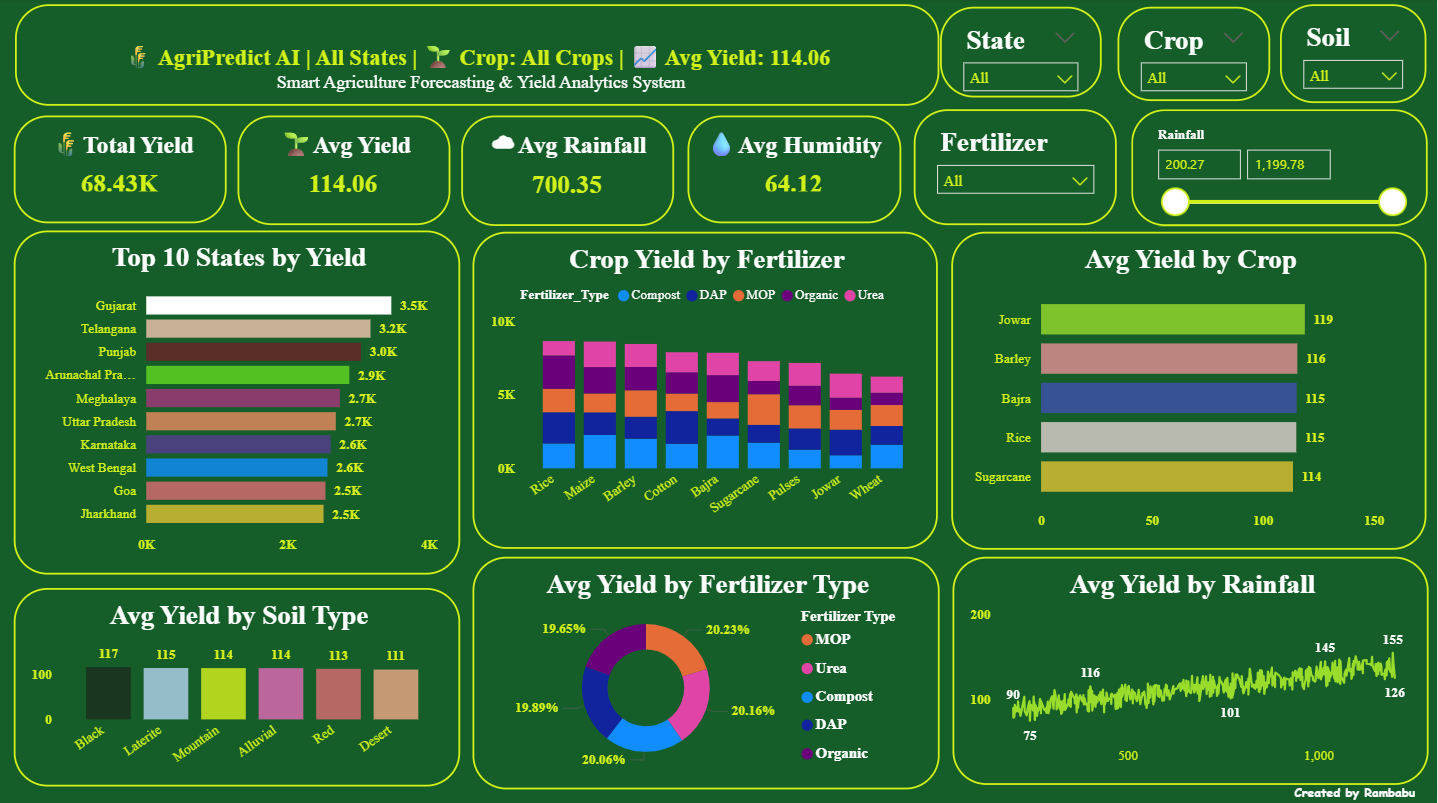

The page's visual inventory and layout, read from the dashboard file:
{"tool":"powerbi","page":{"name":"Page 1","canvas":[1280,720],"ordinal":0},"visuals":[{"type":"cardVisual","title":"🌾Total Yield","fields":{"Data":["crop_yield_india.Total Yield"]},"box":[12.3,104.3,189.4,96.1],"z":0},{"type":"cardVisual","title":"🌱Avg Yield","fields":{"Data":["crop_yield_india.Avg Yield"]},"box":[211.3,104.3,189.4,97.4],"z":1000},{"type":"cardVisual","title":"☁ Avg Rainfall","fields":{"Data":["crop_yield_india.Avg Rainfall"]},"box":[410.3,104.3,189.4,98.8],"z":2000},{"type":"cardVisual","title":"💧Avg Humidity","fields":{"Data":["crop_yield_india.Avg humidity"]},"box":[612,104.3,190.7,96.1],"z":3000},{"type":"slicer","fields":{"Values":["crop_yield_india.State"]},"box":[837.1,8.2,144.1,81],"z":4000},{"type":"slicer","fields":{"Values":["crop_yield_india.Crop"]},"box":[995.3,8.4,135.1,80.8],"z":5000},{"type":"slicer","fields":{"Values":["crop_yield_india.Soil_Type"]},"box":[1140.1,6,130.3,83.2],"z":6000},{"type":"slicer","fields":{"Values":["crop_yield_india.Fertilizer_Type"]},"box":[813.7,98.8,181.1,102.9],"z":7000},{"type":"slicer","fields":{"Values":["crop_yield_india.Rainfall"]},"box":[1007.4,96.5,264.2,106.2],"z":8000},{"type":"clusteredBarChart","title":"Top 10 States by Yield","fields":{"Category":["crop_yield_india.State"],"Y":["Sum(crop_yield_india.Yield)"]},"box":[12.3,207.2,397.9,306],"z":9000},{"type":"donutChart","title":"Avg Yield by Fertilizer Type","fields":{"Category":["crop_yield_india.Fertilizer_Type"],"Y":["crop_yield_india.Avg Yield"]},"box":[421.3,498.1,415.8,207.2],"z":10000},{"type":"columnChart","title":"Crop Yield by Fertilizer","fields":{"Category":["crop_yield_india.Crop"],"Series":["crop_yield_india.Fertilizer_Type"],"Y":["Sum(crop_yield_india.Yield)"]},"box":[421.3,208.6,414.4,282.7],"z":11000},{"type":"columnChart","title":"Avg Yield by Soil Type","fields":{"Category":["crop_yield_india.Soil_Type"],"Y":["crop_yield_india.Avg Yield"]},"box":[12.3,525.6,397.9,177],"z":12000},{"type":"textbox","box":[1147.7,692.4,122.4,27.8],"z":13000},{"type":"lineChart","fields":{"Category":["crop_yield_india.Rainfall"],"Y":["crop_yield_india.Avg Yield"]},"box":[848,498.1,424,203.1],"z":14000},{"type":"clusteredBarChart","fields":{"Y":["crop_yield_india.Avg Yield"],"Category":["crop_yield_india.Crop"]},"box":[846.9,208.7,423.5,283.5],"z":15000},{"type":"cardVisual","fields":{"Data":["crop_yield_india.Dynamic Title"]},"box":[13.7,5.5,823.3,90.6],"z":16000},{"type":"textbox","box":[193,61.5,471.7,42.2],"z":17000}]}

Visuals, with their boxes in screenshot pixels (x1, y1, x2, y2), scaled from the page's 1280x720 canvas onto the 1438x803 screenshot:
"🌾Total Yield" cardVisual: {"left": 14, "top": 116, "right": 227, "bottom": 224}
"🌱Avg Yield" cardVisual: {"left": 237, "top": 116, "right": 450, "bottom": 225}
"☁ Avg Rainfall" cardVisual: {"left": 461, "top": 116, "right": 674, "bottom": 227}
"💧Avg Humidity" cardVisual: {"left": 688, "top": 116, "right": 902, "bottom": 224}
slicer - crop_yield_india.State: {"left": 940, "top": 9, "right": 1102, "bottom": 99}
slicer - crop_yield_india.Crop: {"left": 1118, "top": 9, "right": 1270, "bottom": 99}
slicer - crop_yield_india.Soil_Type: {"left": 1281, "top": 7, "right": 1427, "bottom": 99}
slicer - crop_yield_india.Fertilizer_Type: {"left": 914, "top": 110, "right": 1118, "bottom": 225}
slicer - crop_yield_india.Rainfall: {"left": 1132, "top": 108, "right": 1429, "bottom": 226}
"Top 10 States by Yield" clusteredBarChart: {"left": 14, "top": 231, "right": 461, "bottom": 572}
"Avg Yield by Fertilizer Type" donutChart: {"left": 473, "top": 556, "right": 940, "bottom": 787}
"Crop Yield by Fertilizer" columnChart: {"left": 473, "top": 233, "right": 939, "bottom": 548}
"Avg Yield by Soil Type" columnChart: {"left": 14, "top": 586, "right": 461, "bottom": 784}
textbox: {"left": 1289, "top": 772, "right": 1427, "bottom": 802}
lineChart - crop_yield_india.Rainfall x crop_yield_india.Avg Yield: {"left": 953, "top": 556, "right": 1429, "bottom": 782}
clusteredBarChart - crop_yield_india.Avg Yield x crop_yield_india.Crop: {"left": 951, "top": 233, "right": 1427, "bottom": 549}
cardVisual - crop_yield_india.Dynamic Title: {"left": 15, "top": 6, "right": 940, "bottom": 107}
textbox: {"left": 217, "top": 69, "right": 747, "bottom": 116}
